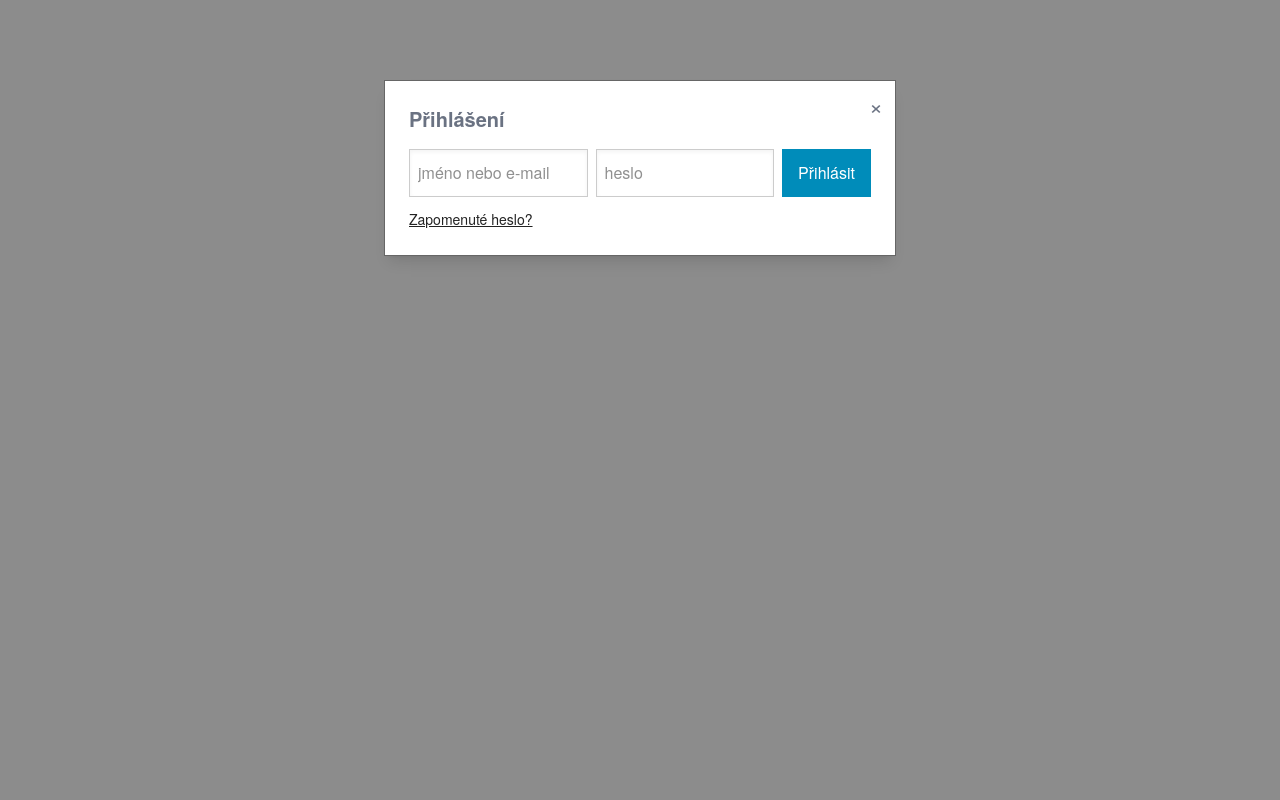
Test case: unconfirmed e-mail offers to send the link again
The image size is (1280, 800).
Type "novy " into the field with placeholder "jméno nebo e-mail" at (498, 173), box [409,149,588,197]
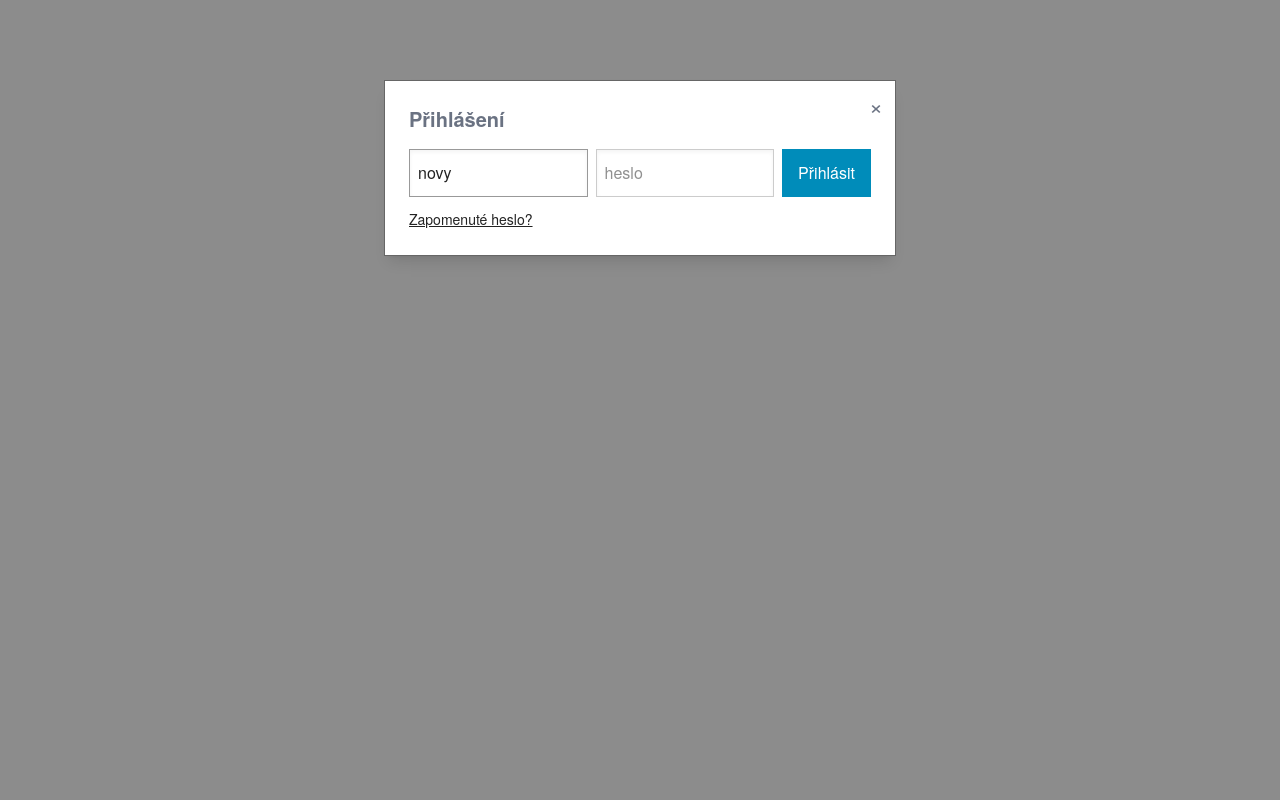
Type "Ufobal-heslo-2026" into the password field with placeholder "heslo" at (685, 173), box [596,149,774,197]
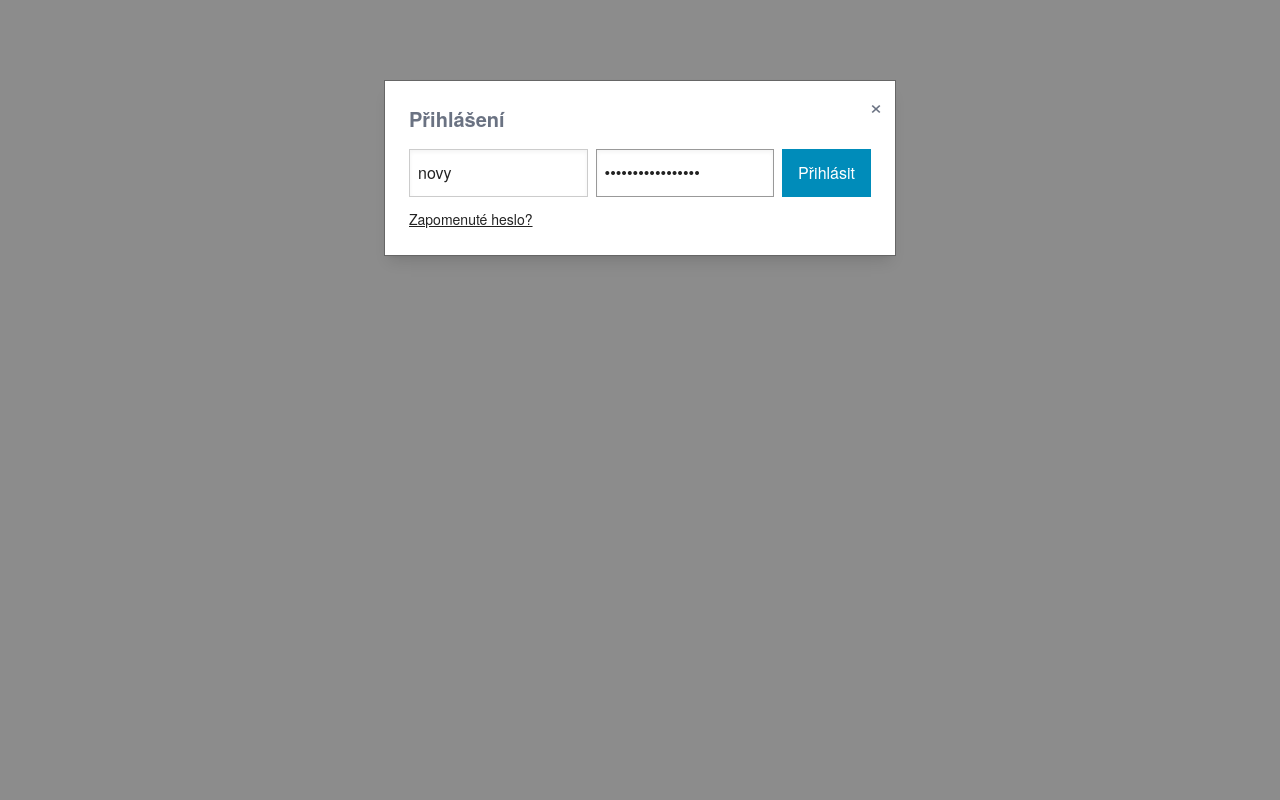
Click the button "Přihlásit" at (827, 173), box [782,149,871,197]
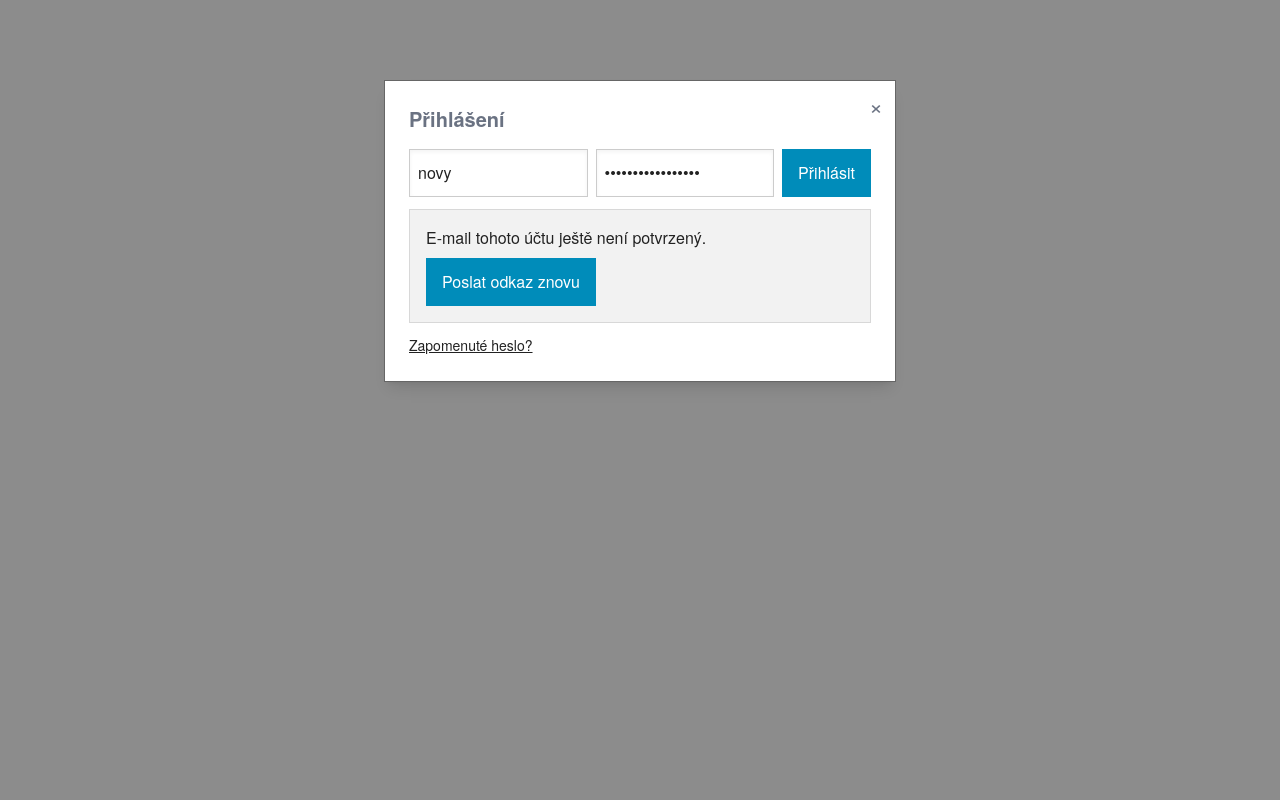
Click the button "Poslat odkaz znovu" at (511, 282), box [426,258,596,306]
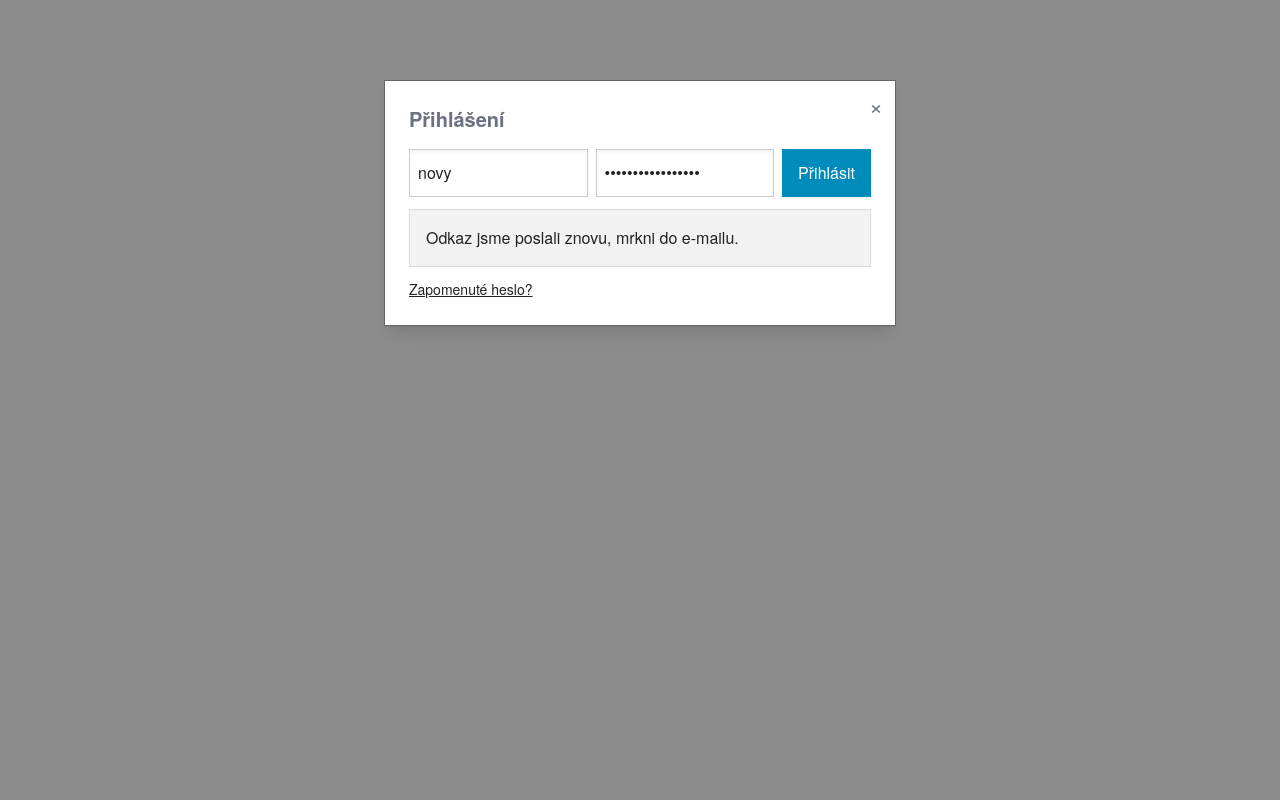
Result: the message shows "Odkaz jsme poslali znovu" at [426,226,739,249]
